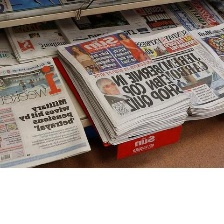news_paper: (55, 24, 224, 139), (0, 52, 93, 168), (50, 1, 155, 45), (118, 0, 224, 42), (8, 16, 70, 64), (183, 18, 224, 84), (0, 28, 20, 67)
